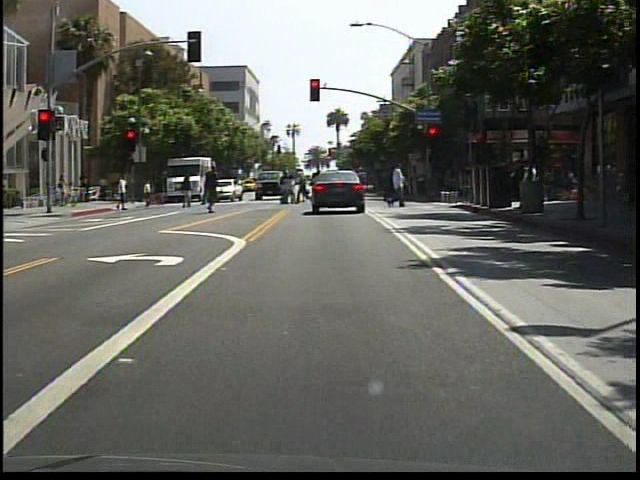person: (385, 161, 409, 211), (200, 165, 223, 217), (309, 170, 330, 212), (178, 173, 197, 213), (114, 173, 131, 215)
